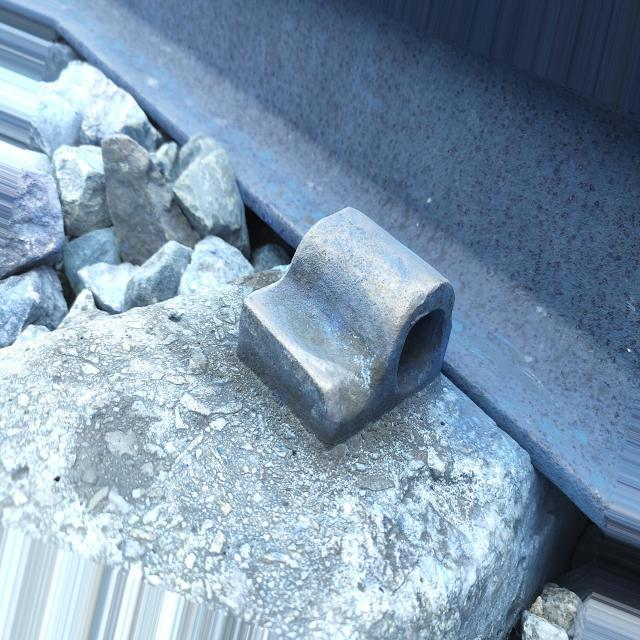Missing Fastener: (207, 210, 466, 494)
